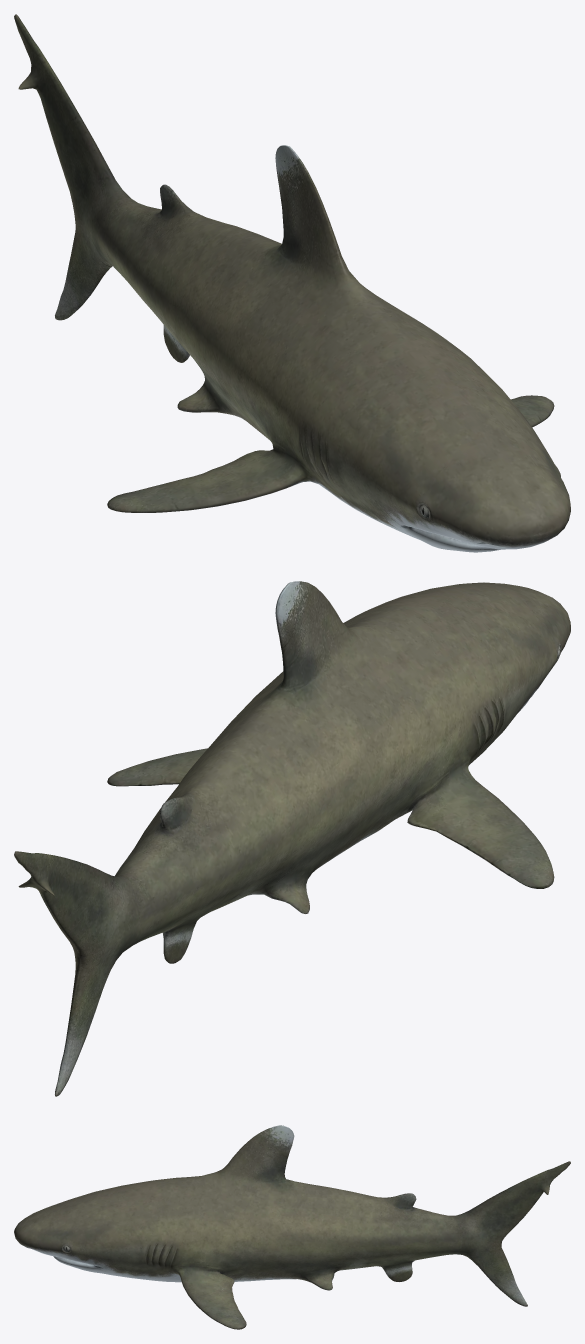
The model's file is whitetip-shark.glb.
The picture shows the model from 3 angles, top to bottom: view 1: azimuth 30°, elevation 25°; view 2: azimuth 150°, elevation 25°; view 3: azimuth 270°, elevation 25°; orthographic projection. The views are drawn at different scales.
Parts seen in each view (by area): view 1: node_id396; view 2: node_id396; view 3: node_id396.
Part boxes in pixels (x1,y1,x2,y2): node_id396: (14,14,570,552); node_id396: (14,581,570,1096); node_id396: (14,1125,570,1329).
Bounding box in the file's own units: 0.512 × 0.3804 × 1.06.
Materials: 1 (1 with a texture image).
